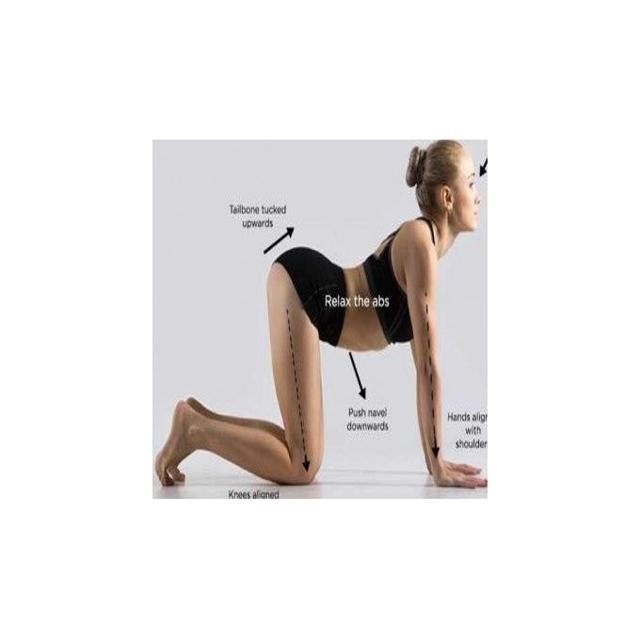Cow_Pose: (152, 140, 488, 490)
